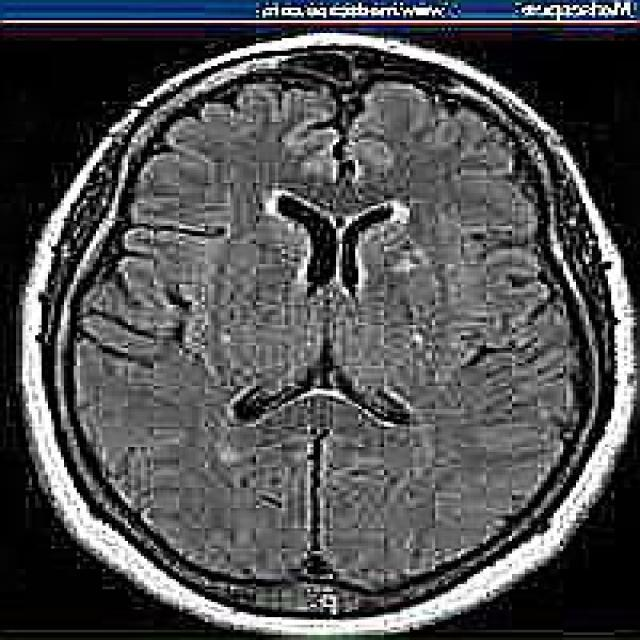notumor: (22, 36, 637, 632)
